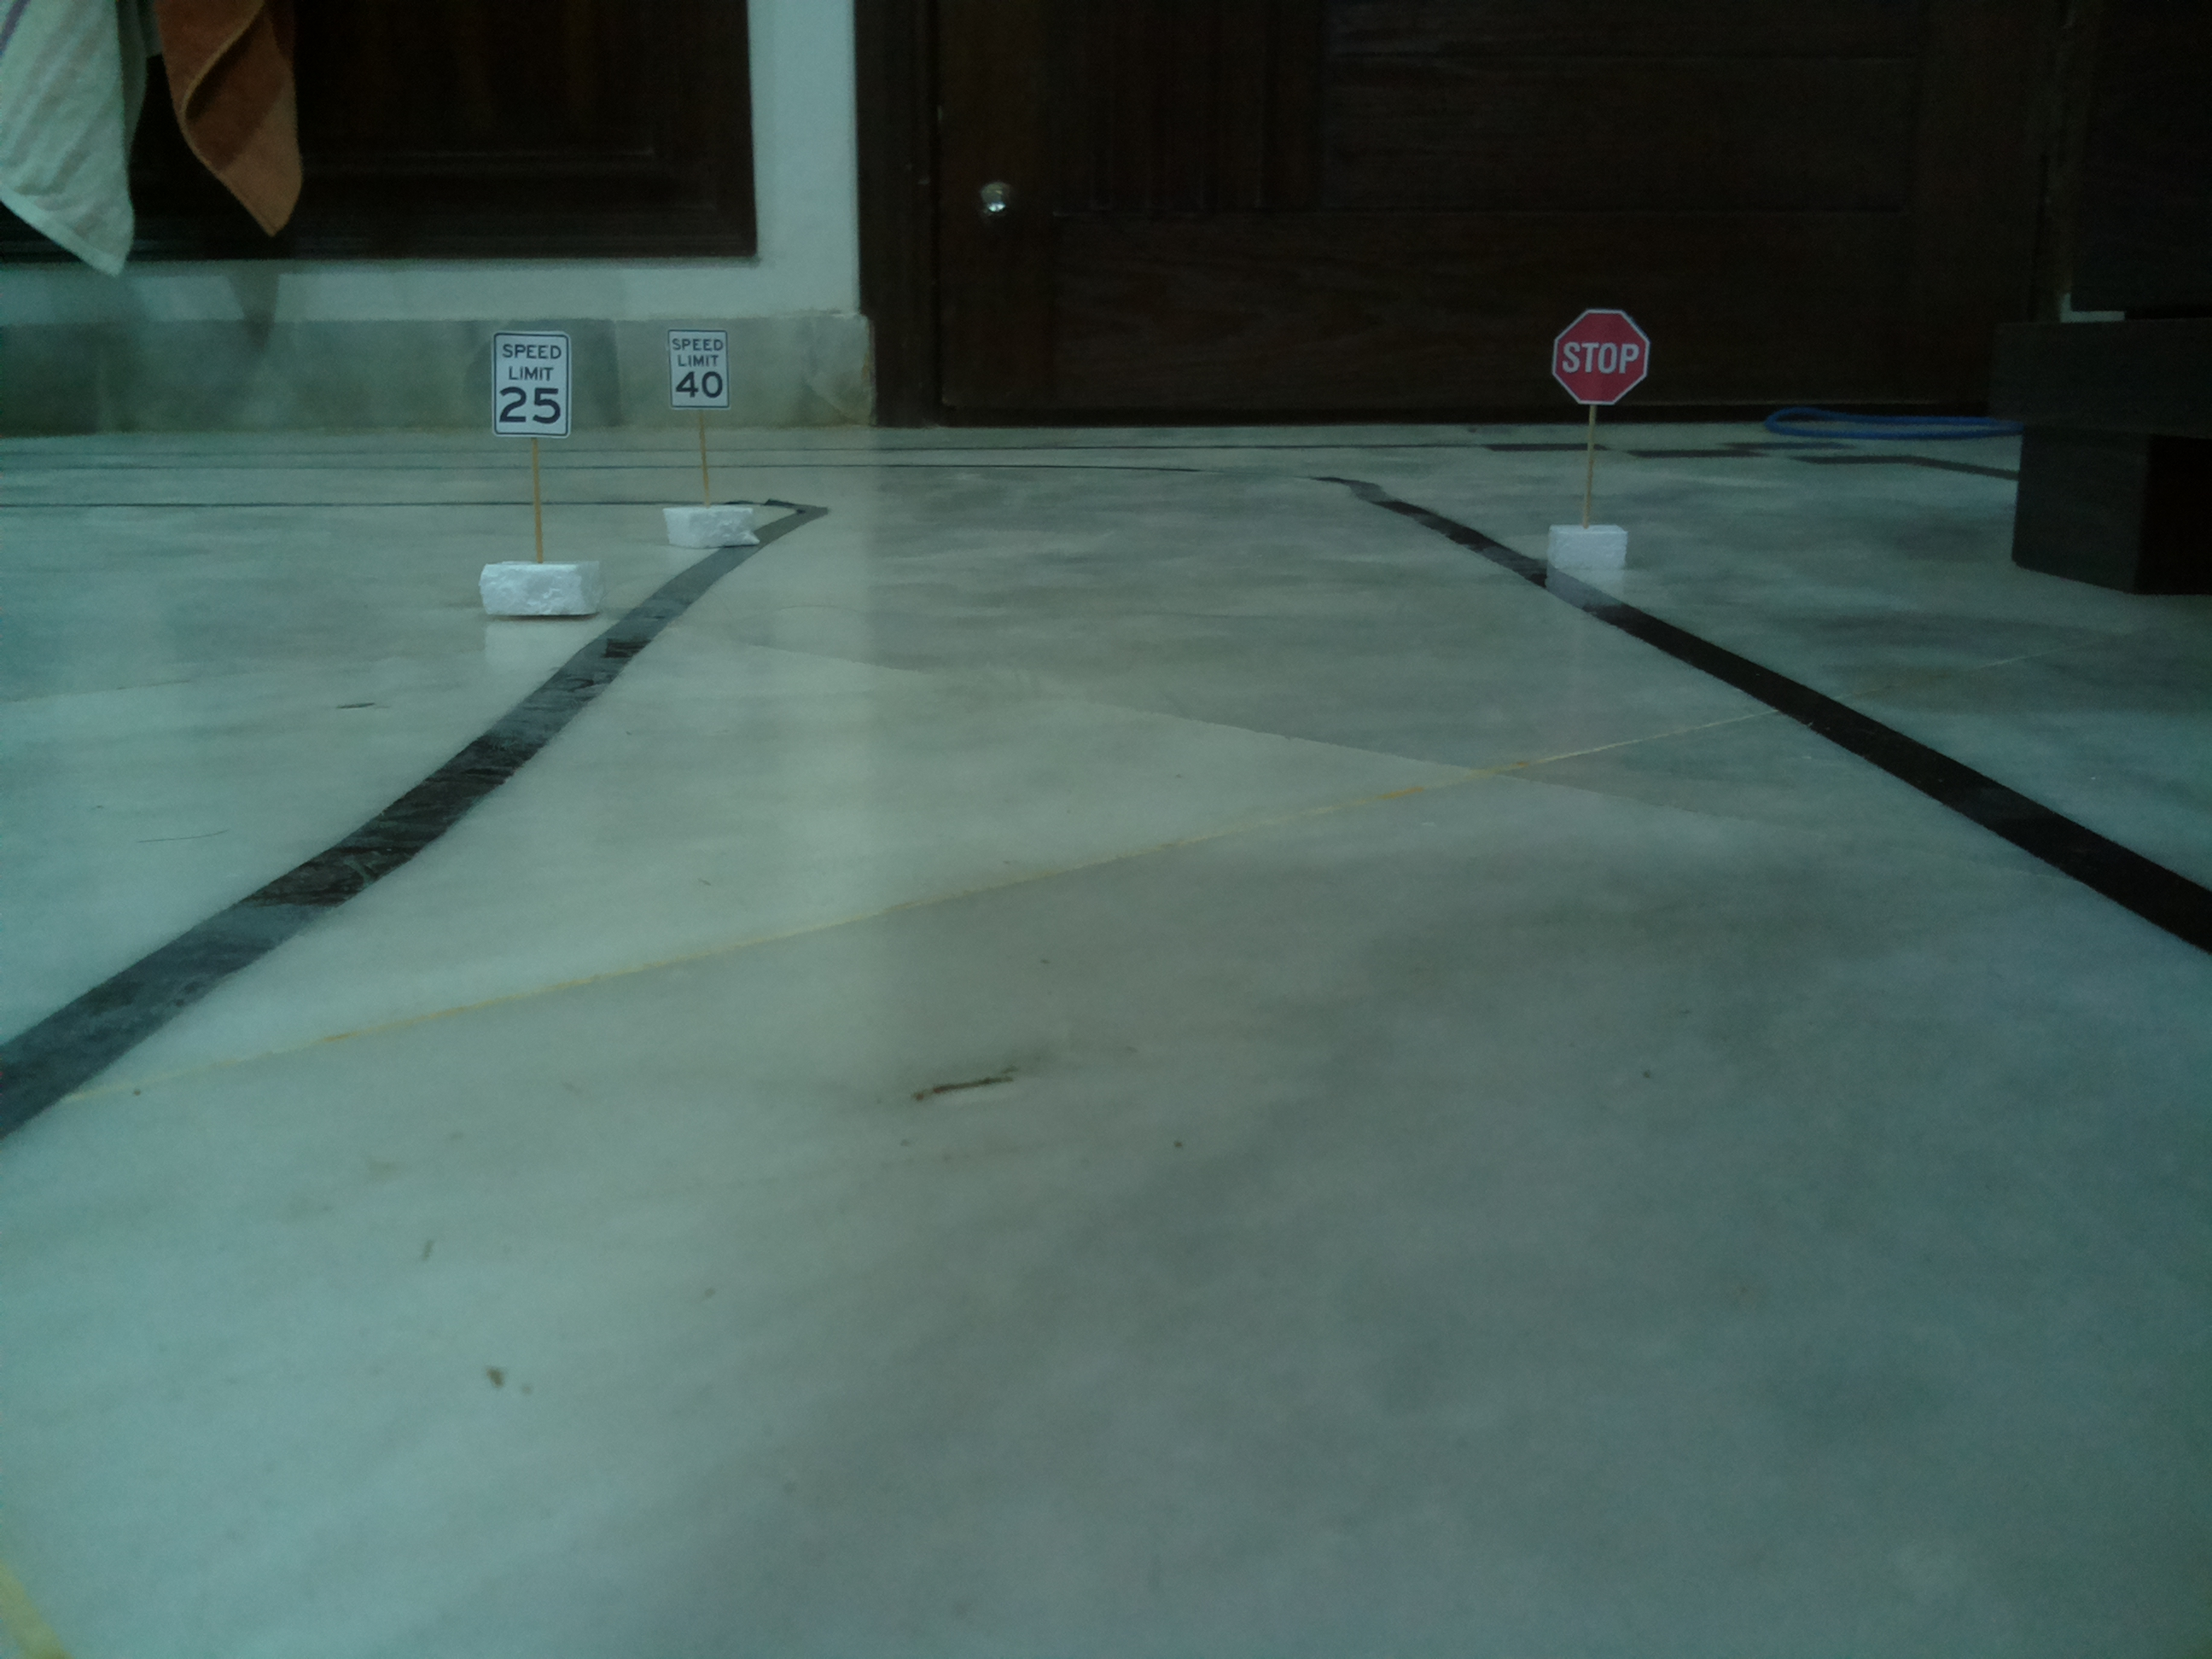Speed limit 25: (489, 324, 578, 444)
Speed limit 40: (653, 322, 740, 418)
Stop sign: (1545, 300, 1655, 410)
